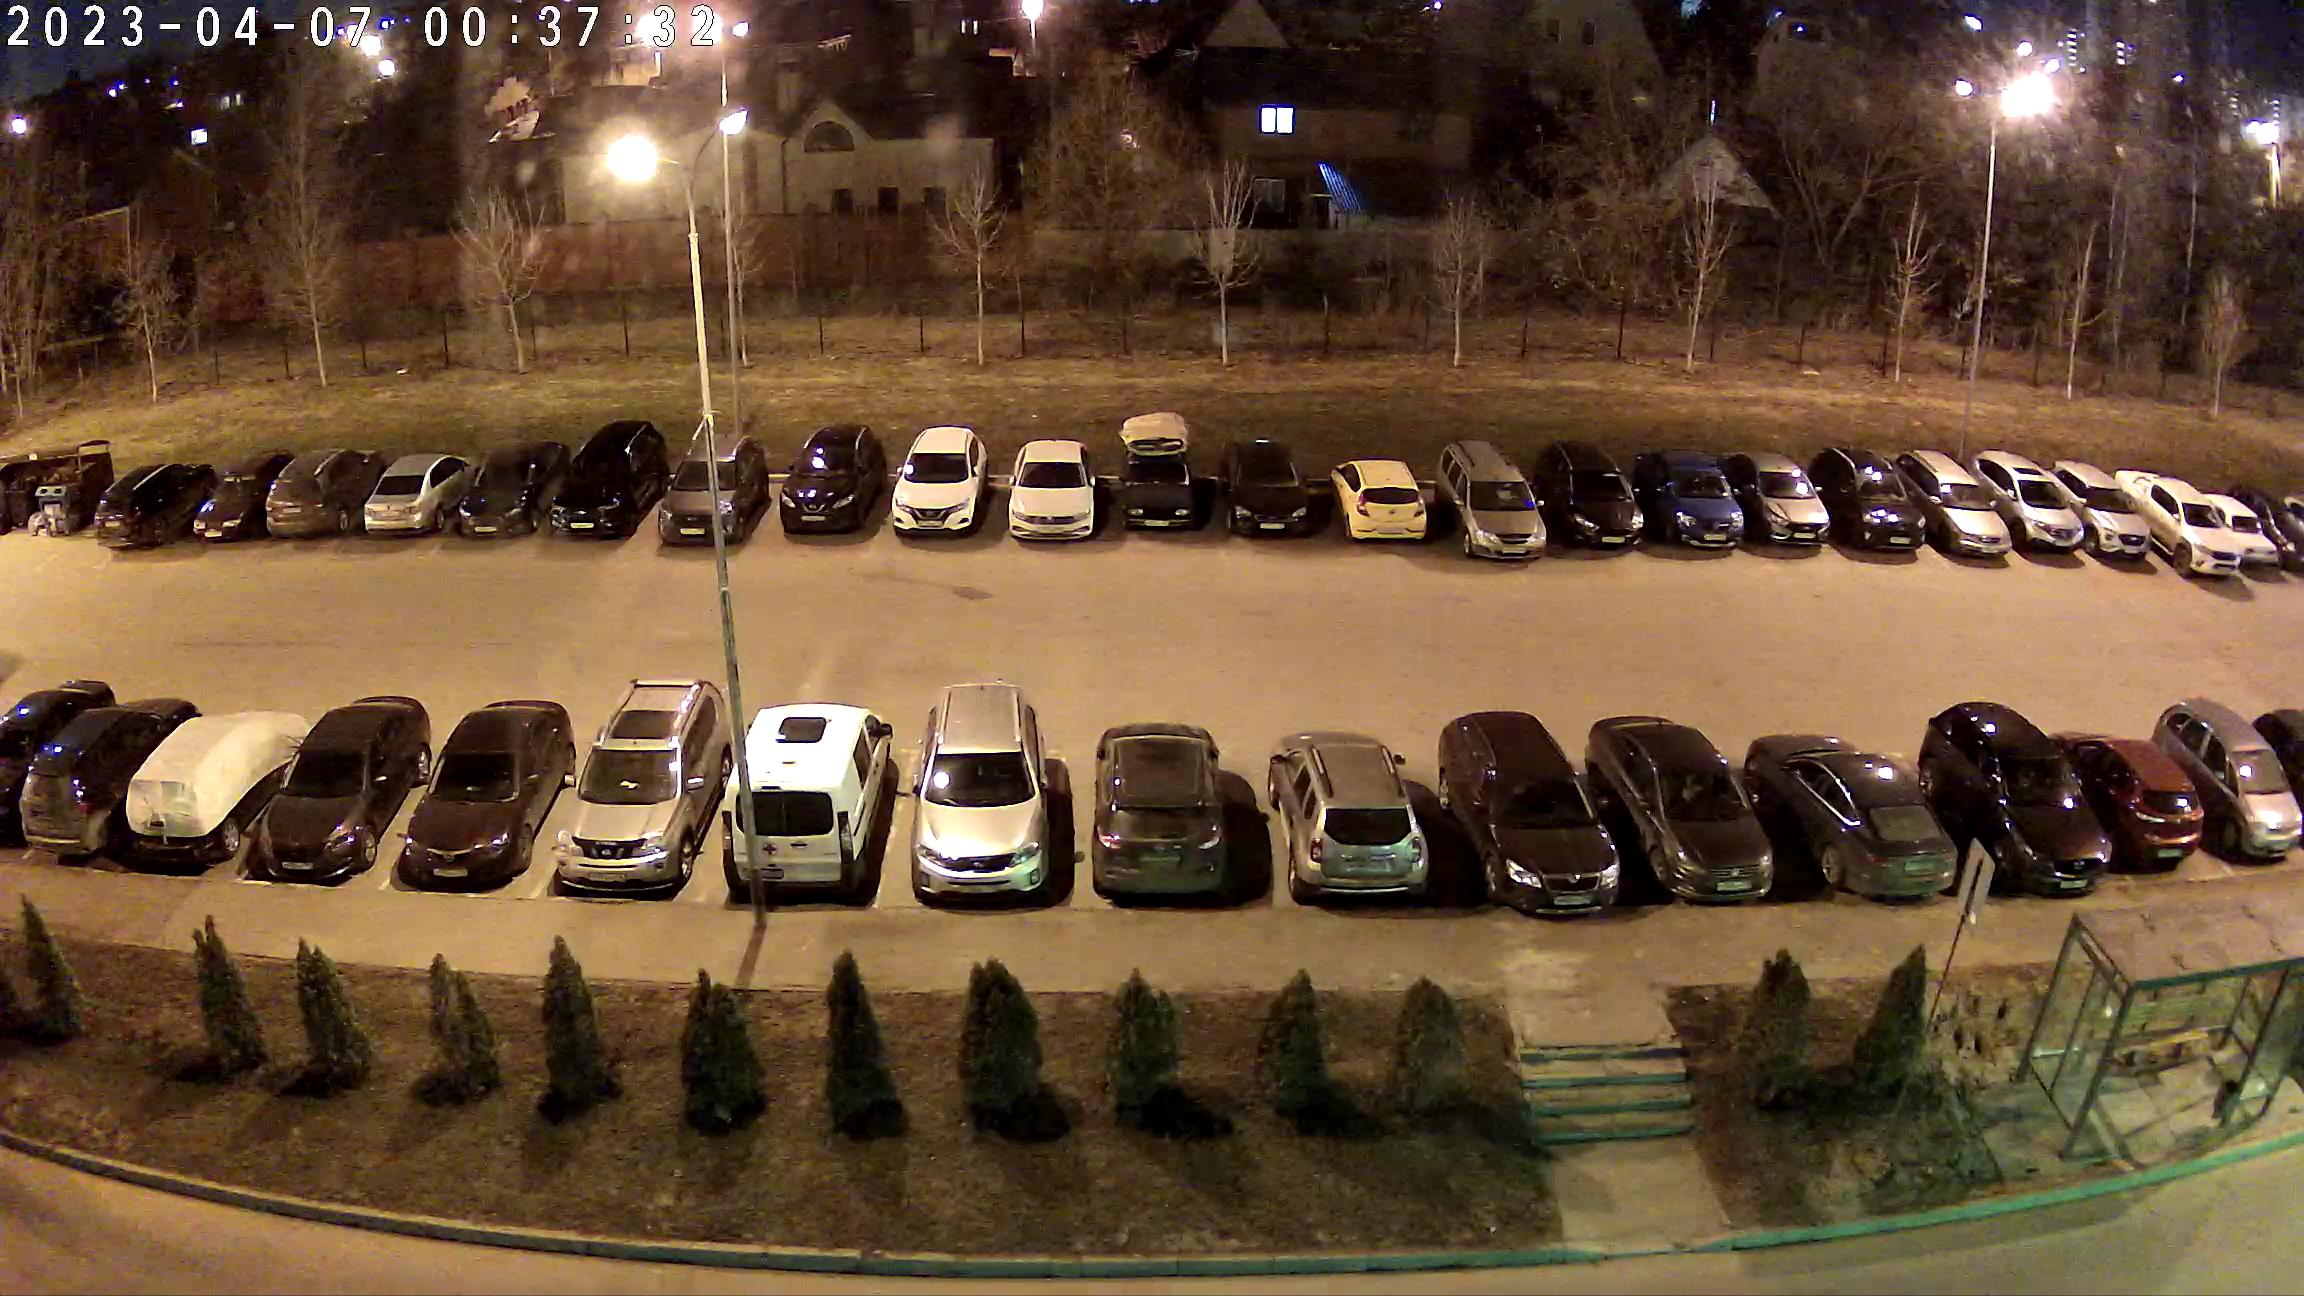empty: (1448, 715, 1654, 926), (712, 703, 900, 907), (1597, 729, 1804, 911), (892, 706, 1079, 900), (544, 696, 720, 899), (241, 703, 427, 892), (1268, 744, 1473, 910), (1943, 720, 2146, 888), (1073, 731, 1263, 910), (399, 707, 571, 883), (1783, 748, 1976, 905), (104, 717, 288, 878), (2035, 723, 2219, 881), (6, 687, 150, 866), (2192, 704, 2304, 862), (2124, 479, 2299, 579), (1905, 453, 2065, 557), (1448, 448, 1586, 563), (1984, 456, 2141, 557), (646, 430, 772, 549), (549, 426, 663, 551), (875, 426, 1005, 533), (1698, 457, 1845, 551), (261, 440, 385, 549), (756, 432, 880, 535), (1815, 453, 1938, 555), (353, 451, 492, 541), (1540, 451, 1657, 557), (1635, 457, 1763, 554), (992, 441, 1109, 546), (1098, 424, 1215, 529), (456, 427, 555, 544), (103, 462, 226, 549), (187, 448, 283, 552), (1334, 465, 1451, 546), (1220, 472, 1332, 536), (2257, 484, 2302, 573)
